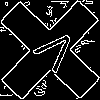V: (25, 25, 81, 81)
